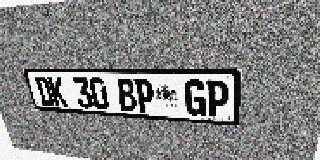0: (88, 78, 109, 110)
3: (72, 77, 94, 109)
B: (116, 78, 137, 112)
D: (34, 77, 55, 106)
G: (185, 80, 206, 116)
K: (47, 77, 68, 107)
P: (206, 80, 229, 118), (134, 79, 155, 113)
